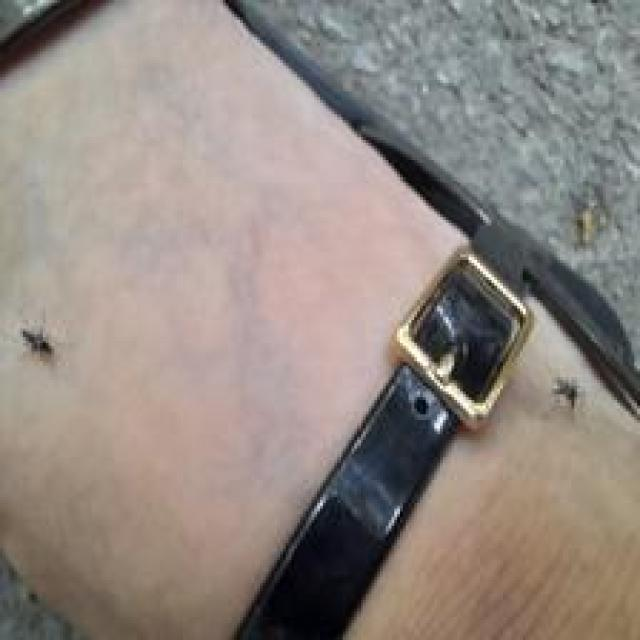Aedes albopictus: (20, 326, 54, 357)
